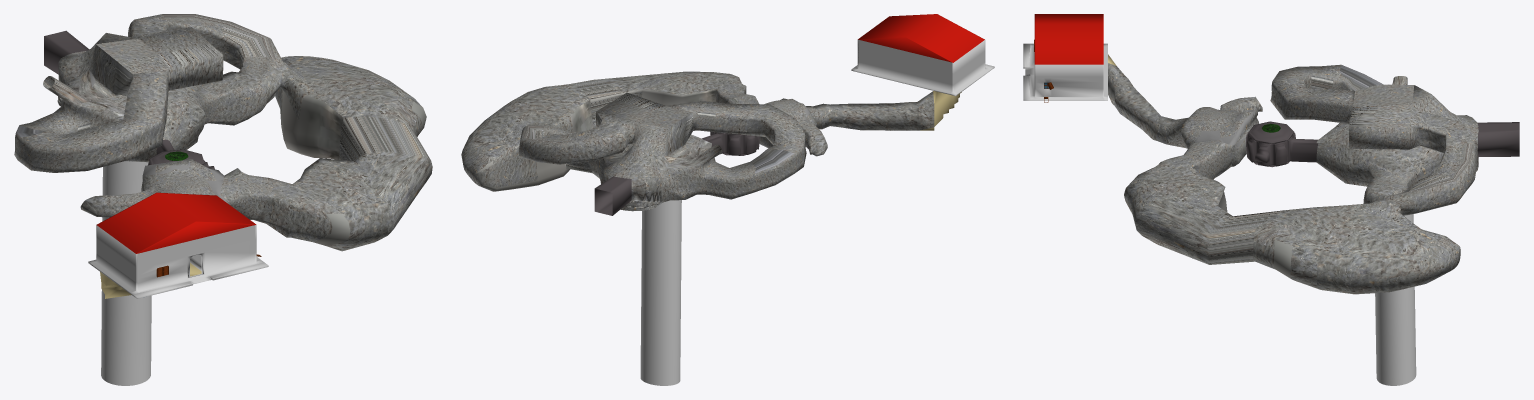
Rendered from FirstFloor.fbx.
The picture shows the model from 3 angles, left to right: view 1: azimuth 30°, elevation 25°; view 2: azimuth 150°, elevation 25°; view 3: azimuth 270°, elevation 25°; orthographic projection. The views are drawn at different scales.
Visible parts, largest first — view 1: Manor; view 2: Manor; view 3: Manor.
Part boxes in pixels (x1,y1,x2,y2): Manor: [14, 14, 432, 385]; Manor: [461, 14, 994, 385]; Manor: [1023, 14, 1519, 385].
Bounding box in the file's own units: 44.07 × 31.63 × 48.19.
